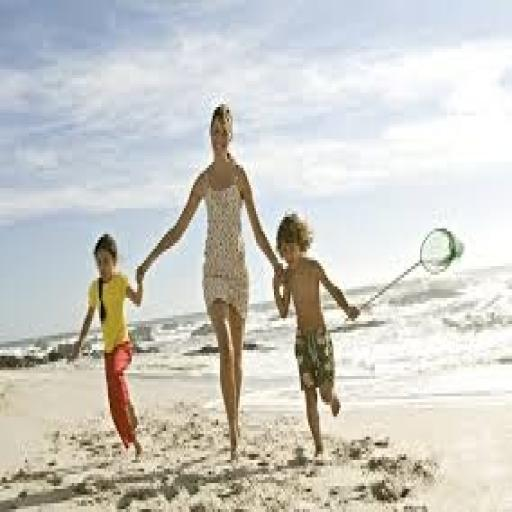running: (134, 98, 286, 463), (270, 208, 362, 463), (67, 228, 146, 460)
